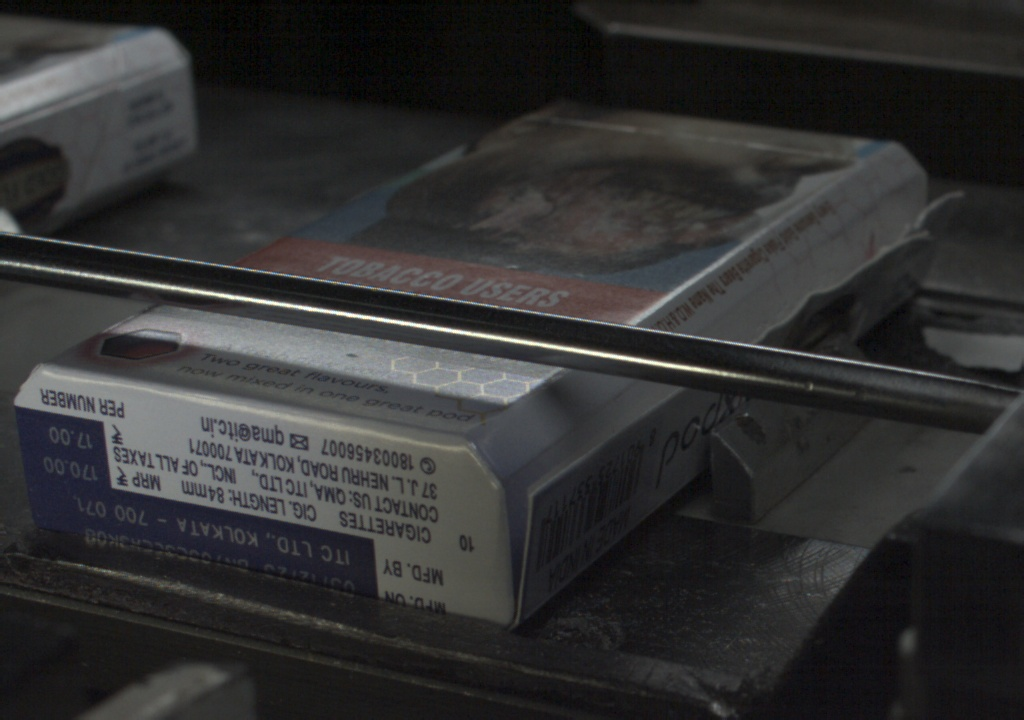g_bottom: (15, 363, 500, 627)
g_label: (21, 489, 378, 596)
ng_lmiter: (509, 444, 565, 582), (798, 234, 875, 297), (581, 398, 659, 459), (725, 282, 799, 339)
ng_miter: (880, 171, 964, 234)
price: (19, 415, 111, 487)
